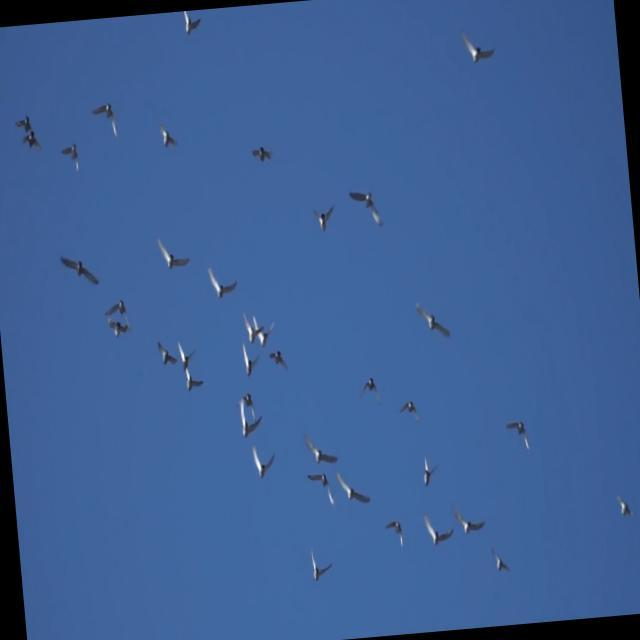bird: (457, 22, 500, 67), (56, 251, 100, 293), (347, 184, 384, 231), (413, 297, 452, 340), (301, 429, 340, 468), (335, 468, 371, 510), (155, 233, 191, 274), (304, 467, 336, 512), (205, 262, 240, 303), (450, 499, 485, 540), (501, 411, 532, 456), (422, 508, 455, 549), (89, 97, 119, 142), (237, 396, 265, 440), (102, 294, 131, 335), (251, 443, 278, 481), (307, 545, 334, 583), (251, 312, 277, 348), (241, 309, 266, 346), (173, 337, 198, 371), (418, 455, 440, 493), (490, 546, 514, 580), (241, 341, 263, 377), (235, 391, 258, 425), (103, 314, 131, 341), (395, 396, 420, 426), (155, 119, 178, 150), (185, 366, 207, 398), (385, 513, 404, 549), (182, 9, 204, 39), (59, 139, 80, 170), (18, 131, 42, 157), (359, 374, 379, 404), (313, 205, 335, 232), (156, 341, 177, 368), (267, 348, 288, 375), (12, 113, 34, 137), (615, 496, 633, 521), (250, 143, 271, 164)
